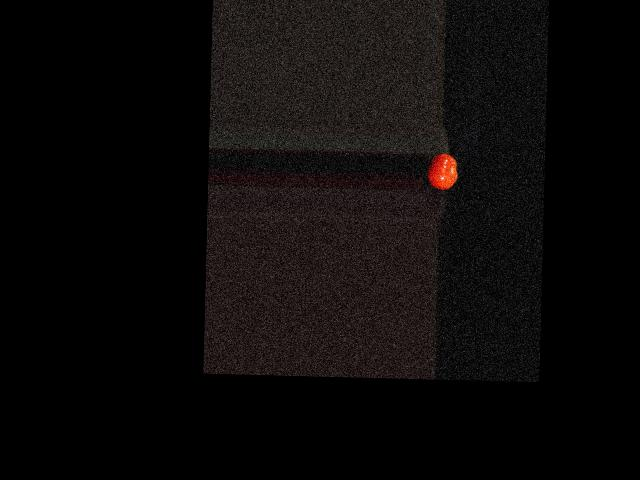tomato: (427, 153, 457, 190)
